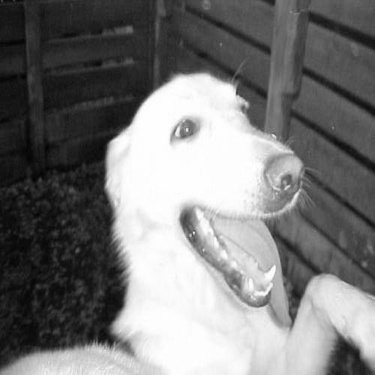dog: (3, 65, 372, 371)
